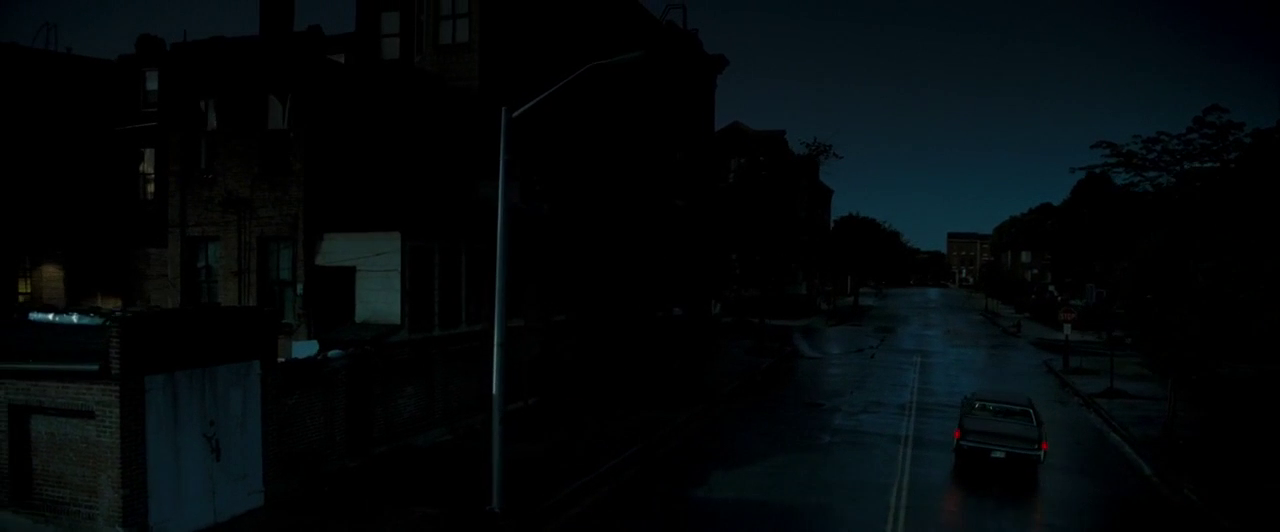car: (944, 381, 1054, 478)
